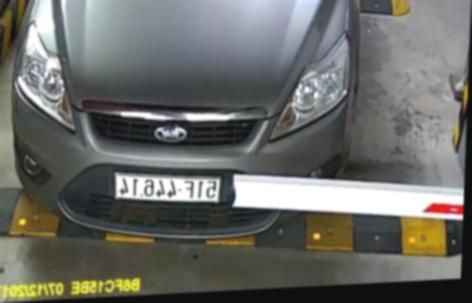License_Plate: (109, 158, 232, 209)
